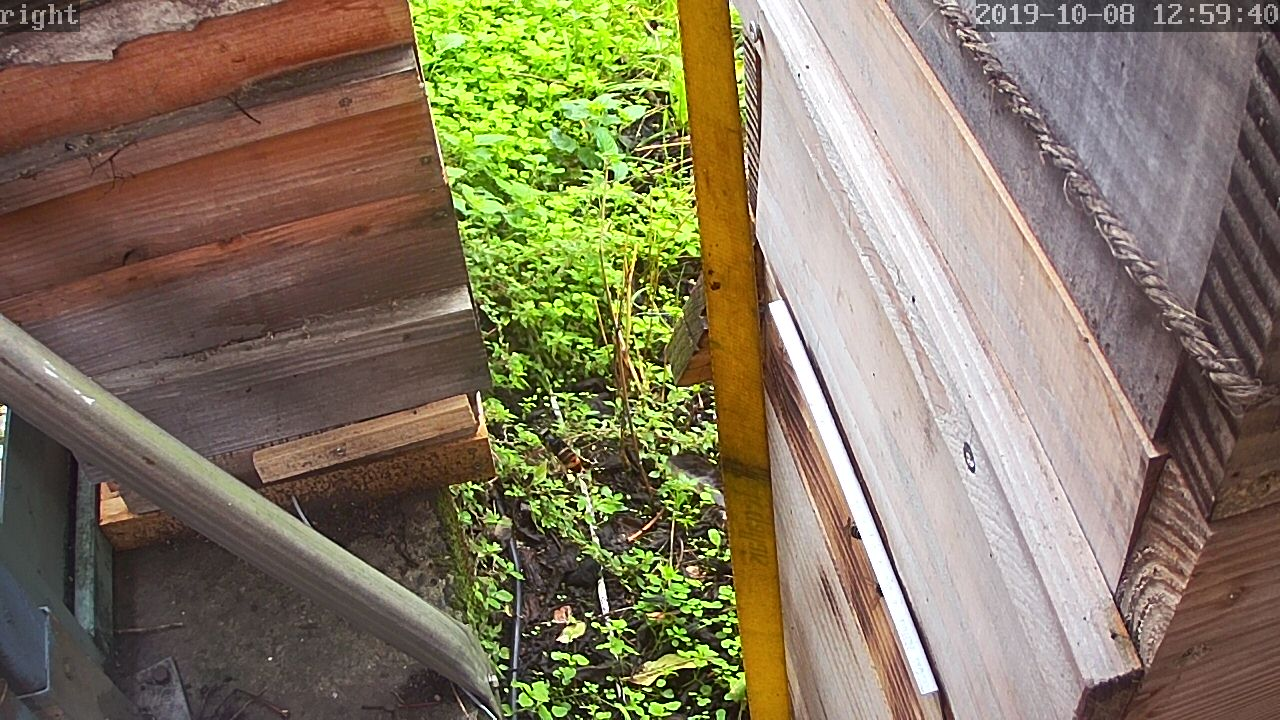bee: (840, 520, 867, 547)
hornet: (537, 421, 581, 474)
